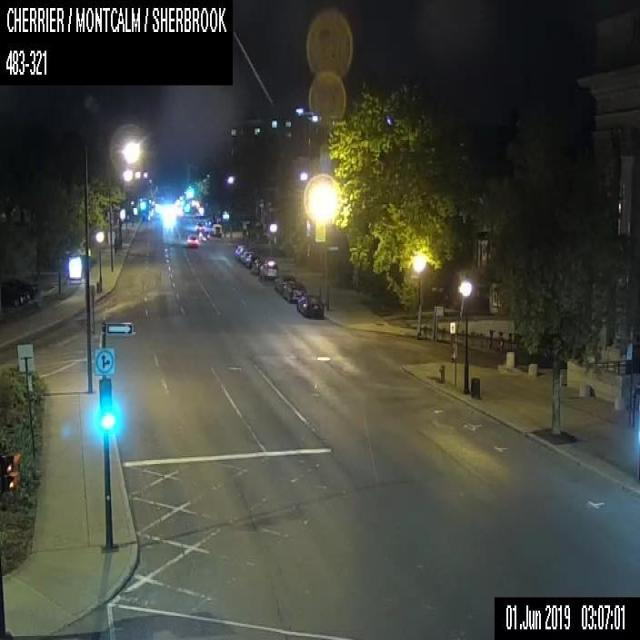vehicle: (0, 282, 28, 306), (296, 294, 323, 318), (6, 277, 35, 298), (282, 280, 305, 300), (274, 274, 294, 293), (259, 260, 276, 278), (234, 243, 247, 258), (251, 257, 263, 273), (241, 250, 252, 262), (187, 234, 198, 246), (211, 222, 221, 235), (198, 230, 208, 240), (195, 222, 204, 231)
